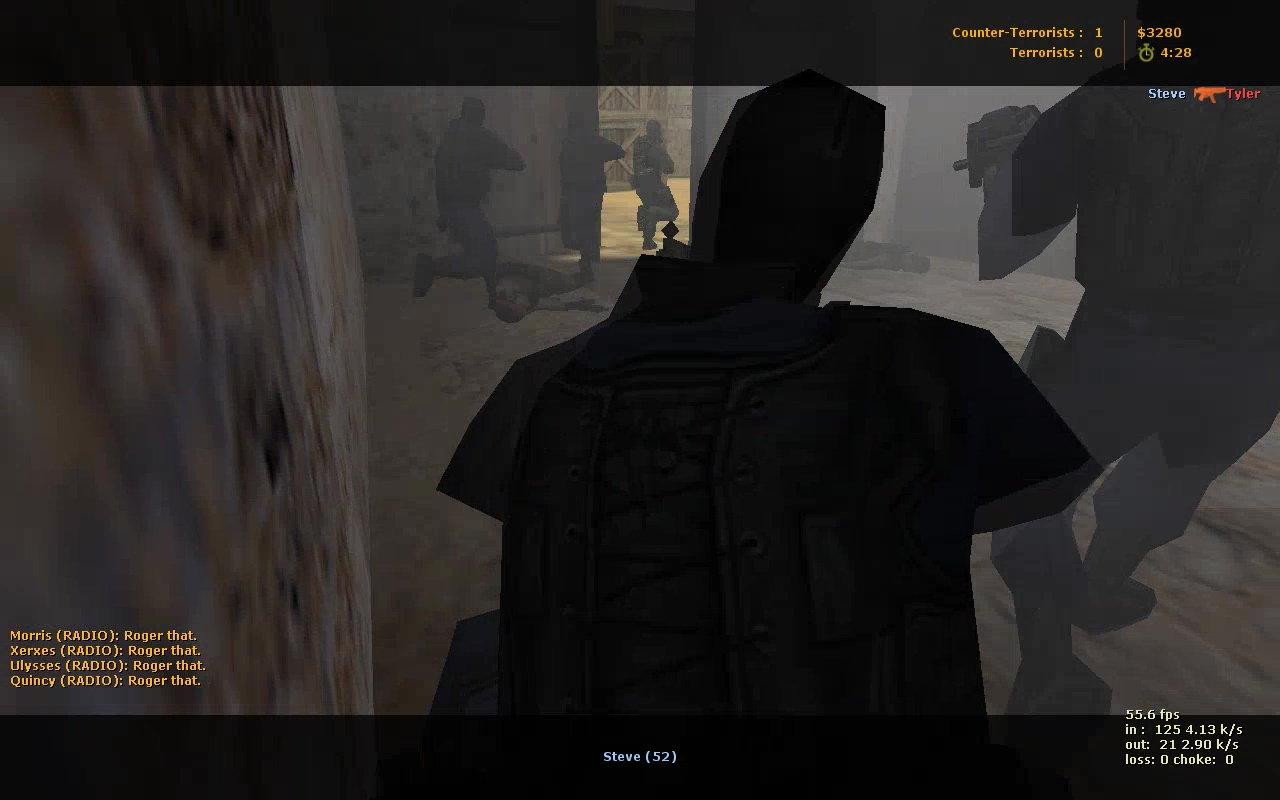ct: (419, 95, 522, 293), (555, 110, 616, 283), (629, 121, 685, 247)
